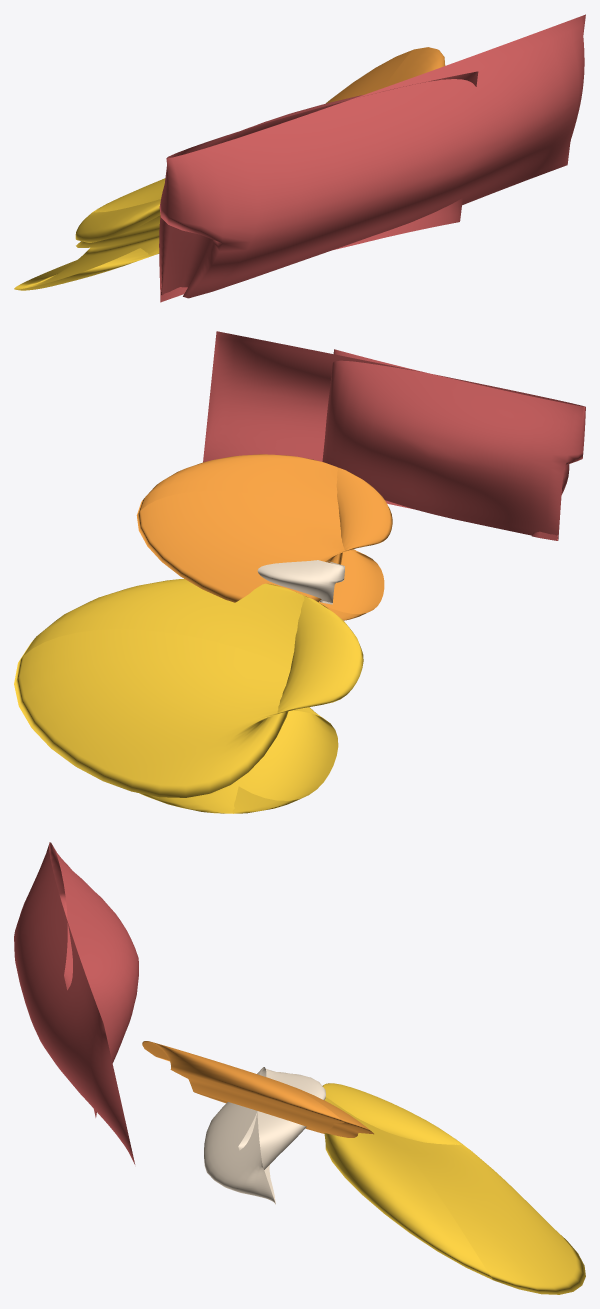
Rendered from digestive.glb.
The picture shows the model from 3 angles, top to bottom: view 1: azimuth 30°, elevation 25°; view 2: azimuth 150°, elevation 25°; view 3: azimuth 270°, elevation 25°; orthographic projection. The views are drawn at different scales.
Parts seen in each view (by area): view 1: Mesh_Canine_Hepar, Mesh_Canine_IntestinumTenue, Mesh_Canine_Gaster; view 2: Mesh_Canine_IntestinumTenue, Mesh_Canine_Hepar, Mesh_Canine_Gaster, Mesh_Canine_Pancreas; view 3: Mesh_Canine_IntestinumTenue, Mesh_Canine_Hepar, Mesh_Canine_Pancreas, Mesh_Canine_Gaster.
Part boxes in pixels (bbox=[...]): Mesh_Canine_Hepar: bbox=[159, 14, 585, 302]; Mesh_Canine_IntestinumTenue: bbox=[14, 178, 165, 290]; Mesh_Canine_Gaster: bbox=[326, 47, 445, 103]; Mesh_Canine_IntestinumTenue: bbox=[14, 579, 363, 813]; Mesh_Canine_Hepar: bbox=[203, 331, 585, 540]; Mesh_Canine_Gaster: bbox=[136, 454, 392, 620]; Mesh_Canine_Pancreas: bbox=[257, 560, 344, 604]; Mesh_Canine_IntestinumTenue: bbox=[322, 1083, 585, 1294]; Mesh_Canine_Hepar: bbox=[14, 842, 138, 1164]; Mesh_Canine_Pancreas: bbox=[204, 1067, 325, 1204]; Mesh_Canine_Gaster: bbox=[142, 1041, 373, 1137].
Bounding box in the file's own units: 0.595 × 0.4424 × 0.6962.
